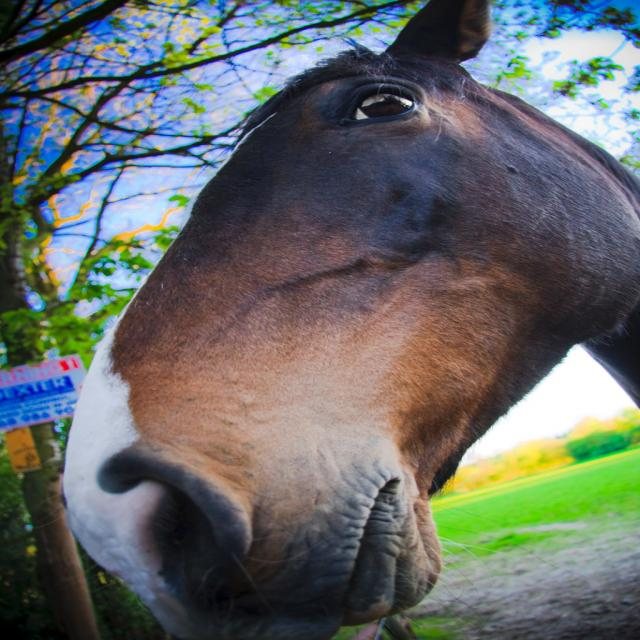Horse: (61, 0, 640, 640)
